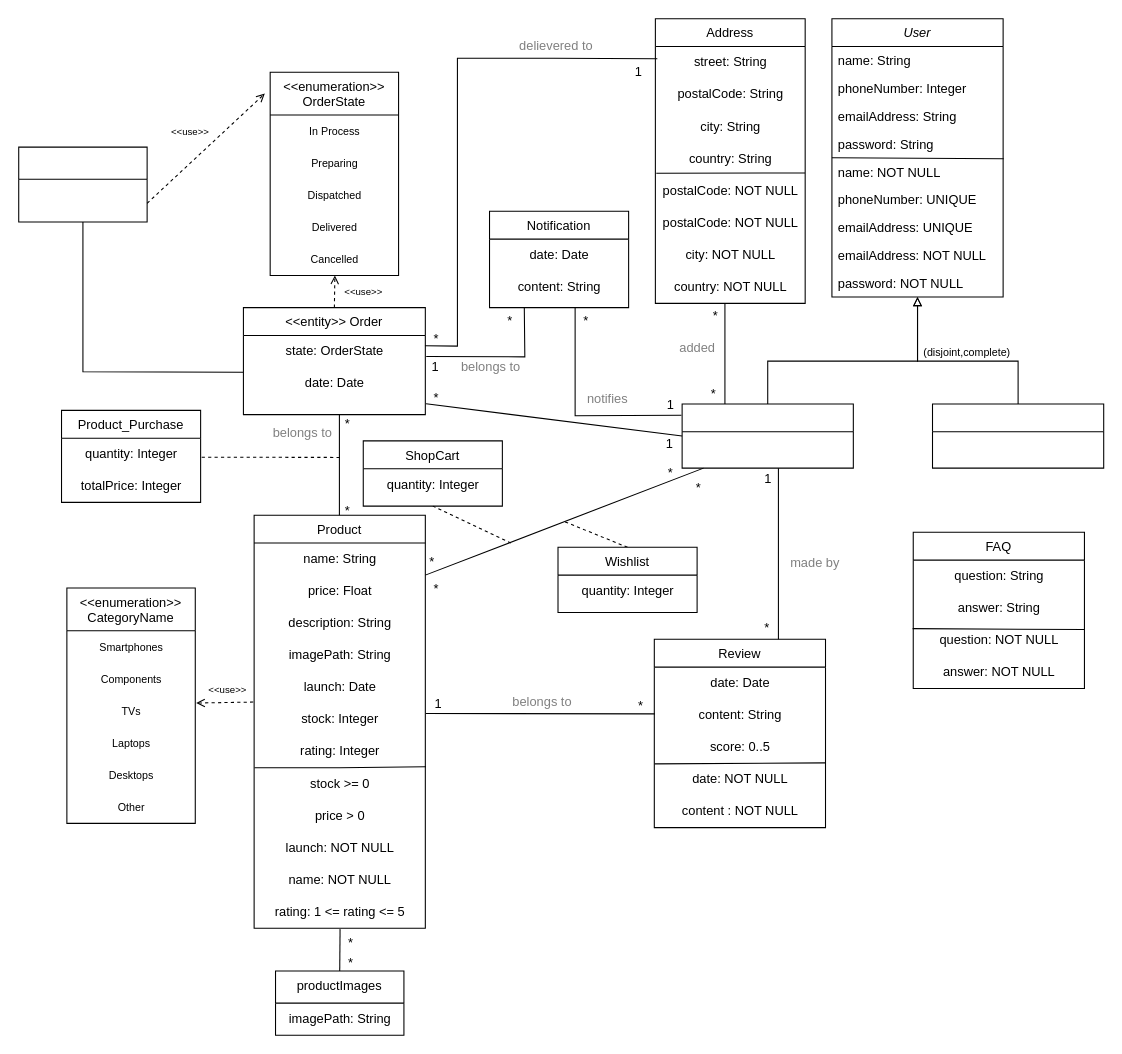
The diagram is 1122 pixels wide and 1054 high, and some of its shapes have lost their labels. Each missing label, with the centre of its shape:
Administrator: the point at 1017,435
Authenticated User: the point at 767,435
OrderStateHistory: the point at 82,184
